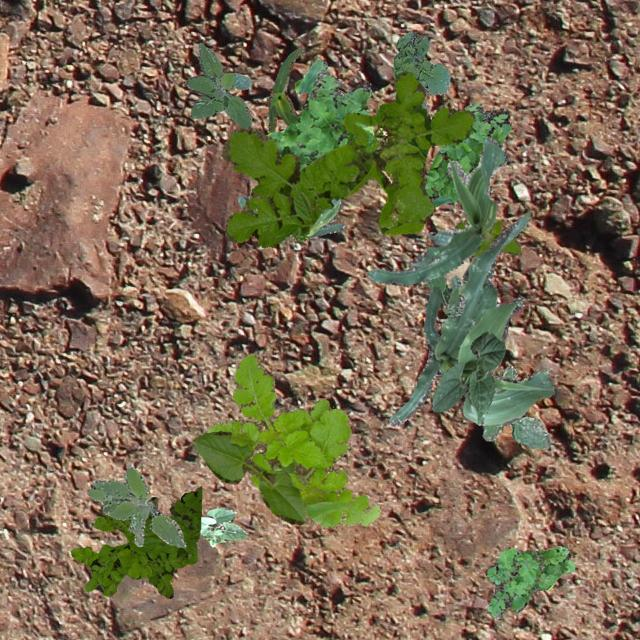crop: (388, 212, 554, 426), (366, 136, 508, 284), (192, 431, 304, 524), (430, 330, 504, 424), (238, 194, 342, 238), (266, 46, 304, 132), (198, 508, 246, 546)
weed: (221, 70, 474, 246), (206, 352, 380, 528), (70, 484, 200, 598), (264, 58, 374, 170), (424, 102, 509, 206), (86, 466, 185, 546), (484, 546, 574, 620), (482, 366, 550, 448), (184, 42, 250, 126), (392, 30, 450, 110), (454, 218, 520, 256), (422, 274, 460, 316)
